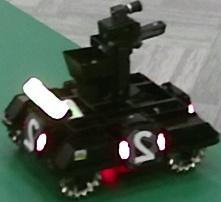armor_2: (119, 133, 166, 160)
light: (24, 78, 70, 119)
